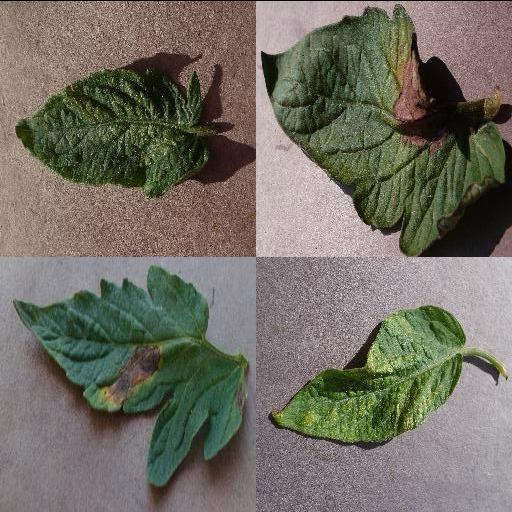Early Blight: (8, 261, 252, 485)
Late Blight: (258, 1, 508, 256)
Spider Mites: (269, 305, 465, 443), (15, 65, 211, 197)
